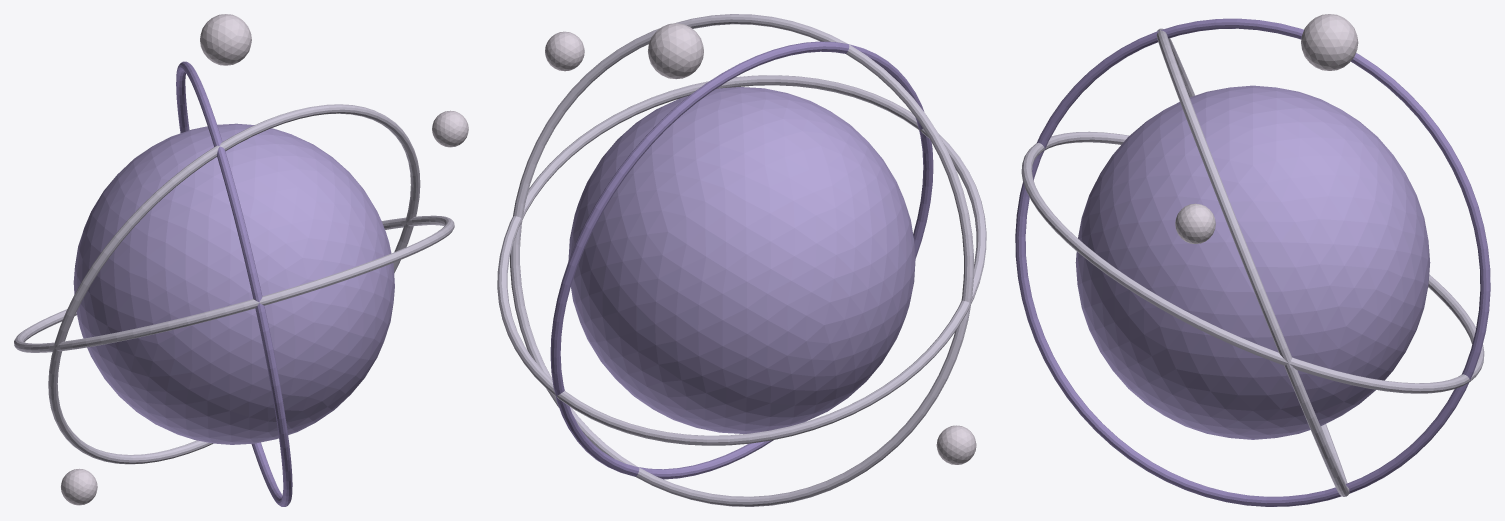
File: connected-core.glb
3 views of the same model, side by side, from view 1: azimuth 30°, elevation 25°; view 2: azimuth 150°, elevation 25°; view 3: azimuth 270°, elevation 25° (orthographic). The views are drawn at different scales.
Parts seen in each view (by area): view 1: faceted-iris-core, orbital-band-1, orbital-band-3, orbital-band-2, orbit-beacon-3, orbit-beacon-2, orbit-beacon-1; view 2: faceted-iris-core, orbital-band-1, orbital-band-2, orbital-band-3, orbit-beacon-3, orbit-beacon-1, orbit-beacon-2; view 3: faceted-iris-core, orbital-band-3, orbital-band-2, orbital-band-1, orbit-beacon-3, orbit-beacon-1.
Boxes of the visible parts, <box> form: faceted-iris-core: <box>73,123,394,444</box>; orbital-band-1: <box>48,104,420,464</box>; orbital-band-3: <box>176,61,292,506</box>; orbital-band-2: <box>14,215,454,352</box>; orbit-beacon-3: <box>200,14,251,65</box>; orbit-beacon-2: <box>61,468,97,505</box>; orbit-beacon-1: <box>432,110,468,147</box>; faceted-iris-core: <box>568,87,915,433</box>; orbital-band-1: <box>510,14,973,506</box>; orbital-band-2: <box>497,75,986,445</box>; orbital-band-3: <box>550,41,933,479</box>; orbit-beacon-3: <box>648,23,703,79</box>; orbit-beacon-1: <box>545,31,584,71</box>; orbit-beacon-2: <box>936,425,976,464</box>; faceted-iris-core: <box>1075,85,1430,439</box>; orbital-band-3: <box>1015,18,1490,506</box>; orbital-band-2: <box>1021,131,1484,393</box>; orbital-band-1: <box>1156,28,1349,496</box>; orbit-beacon-3: <box>1301,14,1358,70</box>; orbit-beacon-1: <box>1175,203,1215,243</box>.
Bounding box in the file's own units: 2.14 × 2.24 × 1.98.
